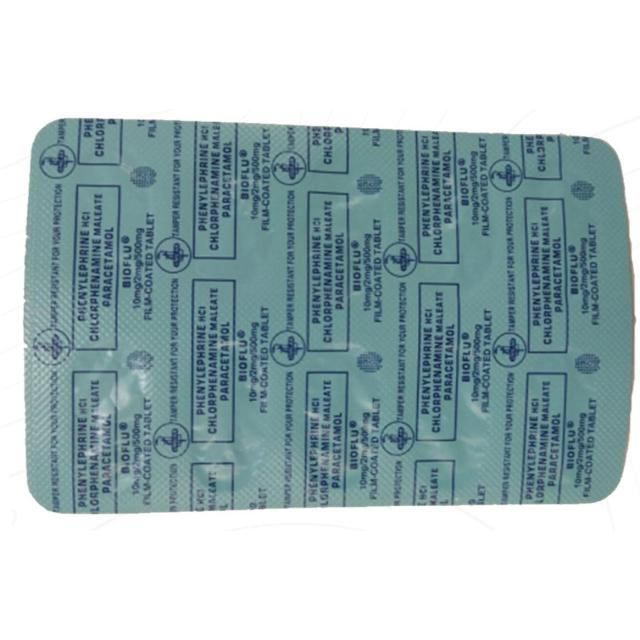blister: (20, 114, 635, 517)
